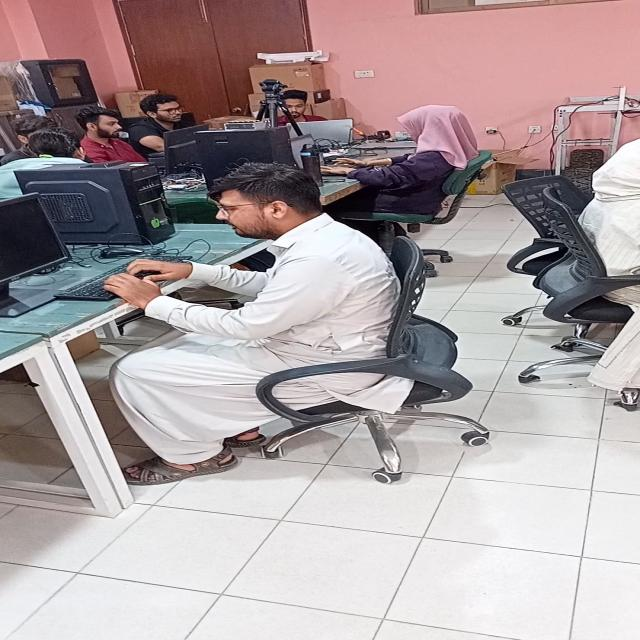dress: (107, 212, 406, 468)
